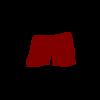shorts: (25, 32, 76, 67)
